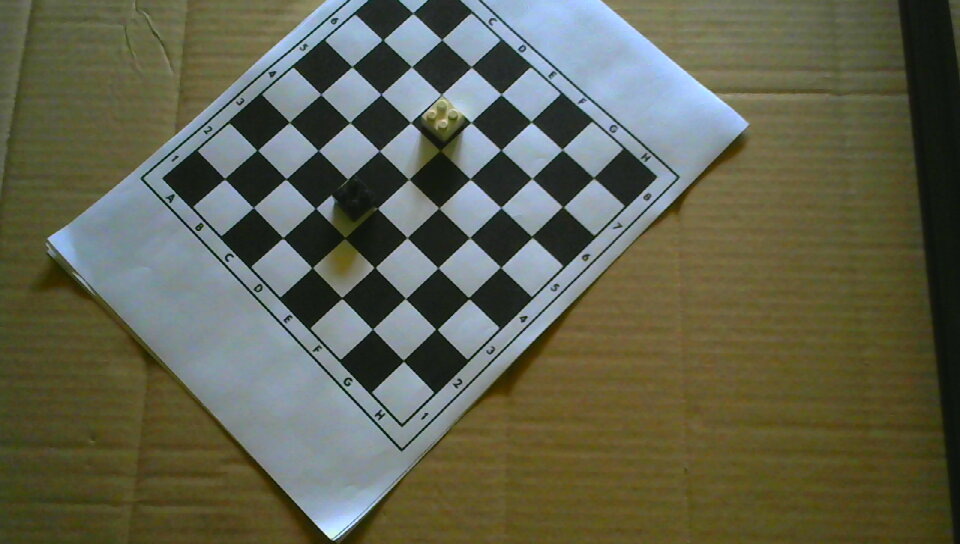bp: (331, 173, 378, 222)
wp: (421, 96, 466, 144)
